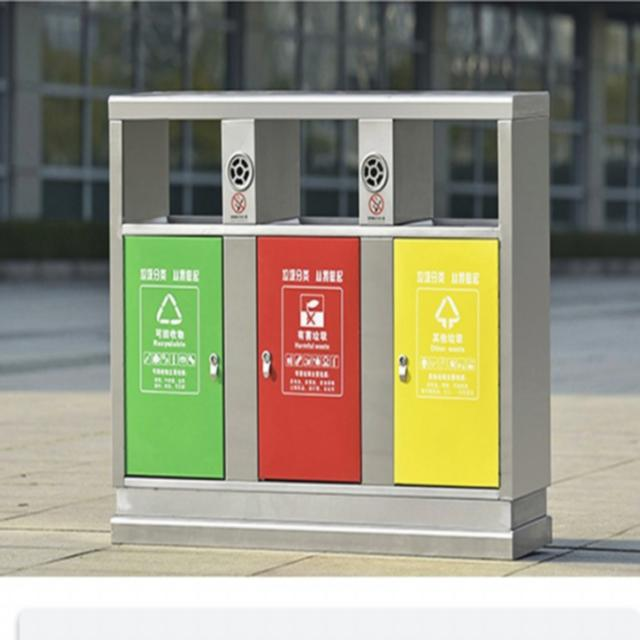ash bin: (101, 76, 558, 560)
